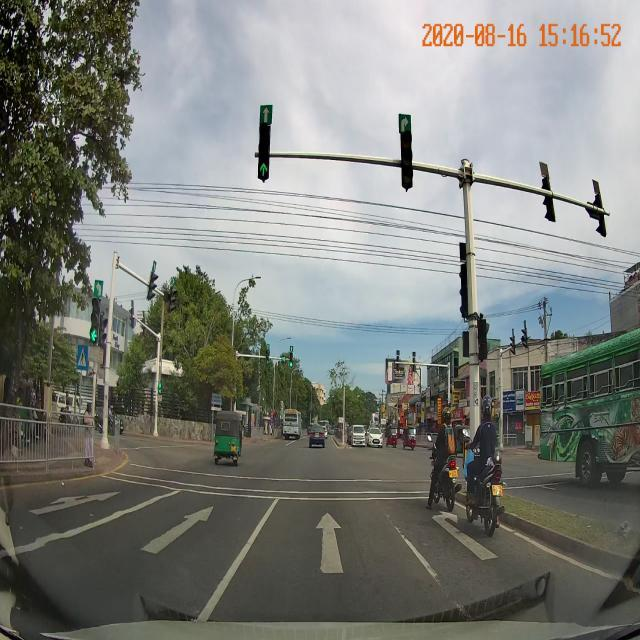forward: (216, 499, 445, 588)
